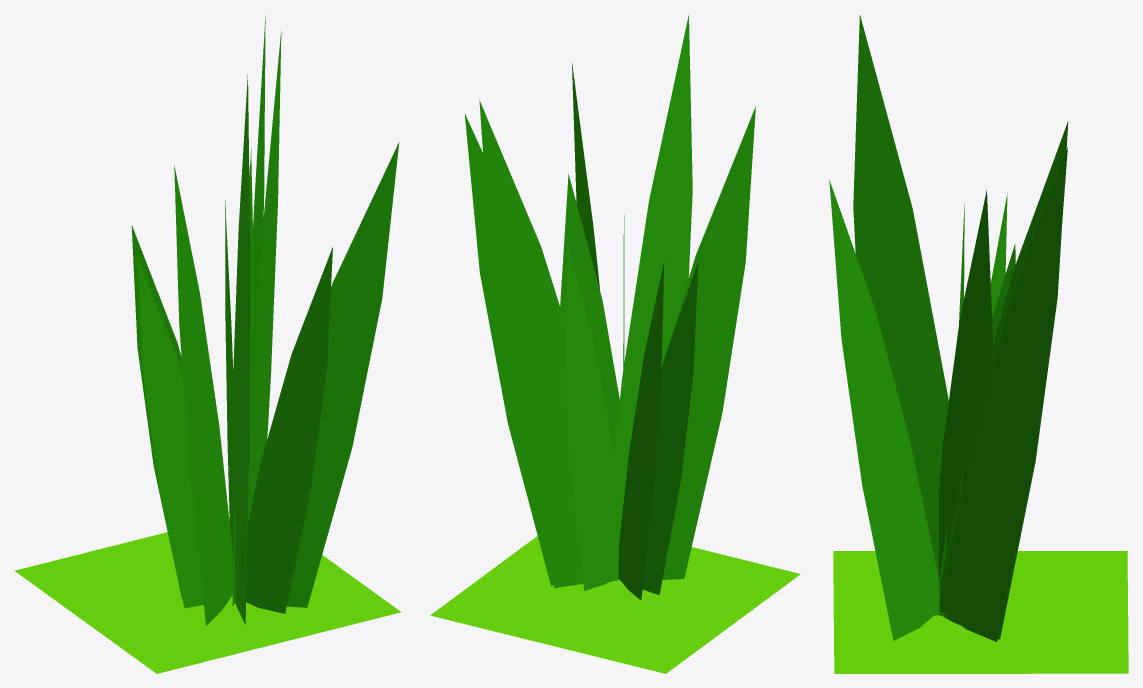
File: muda única de grama.fbx
The picture shows the model from 3 angles, left to right: view 1: azimuth 30°, elevation 25°; view 2: azimuth 150°, elevation 25°; view 3: azimuth 270°, elevation 25°; orthographic projection. The views are drawn at different scales.
Parts seen in each view (by area): view 1: Plane.003, Plane.003|Plane.002|Dupli|7, Plane.003|Plane.002|Dupli|5, Plane.003|Plane.002|Dupli|9, Plane.003|Plane.002|Dupli|4, Plane.003|Plane.002|Dupli|8, Plane.003|Plane.002|Dupli|6, Plane.003|Plane.002|Dupli|3, Plane.003|Plane.002|Dupli|10, Plane.003|Plane.002|Dupli|2, Plane.003|Plane.002|Dupli|1; view 2: Plane.003, Plane.003|Plane.002|Dupli|3, Plane.003|Plane.002|Dupli|9, Plane.003|Plane.002|Dupli|8, Plane.003|Plane.002|Dupli|2, Plane.003|Plane.002|Dupli|4, Plane.003|Plane.002|Dupli|10, Plane.003|Plane.002|Dupli|1, Plane.003|Plane.002|Dupli|6, Plane.003|Plane.002|Dupli|7; view 3: Plane.003, Plane.003|Plane.002|Dupli|6, Plane.003|Plane.002|Dupli|8, Plane.003|Plane.002|Dupli|7, Plane.003|Plane.002|Dupli|1, Plane.003|Plane.002|Dupli|3, Plane.003|Plane.002|Dupli|10, Plane.003|Plane.002|Dupli|2.
Boxes of the visible parts, <box> form: Plane.003: <box>14,516,401,673</box>; Plane.003|Plane.002|Dupli|7: <box>286,142,399,607</box>; Plane.003|Plane.002|Dupli|5: <box>246,247,332,613</box>; Plane.003|Plane.002|Dupli|9: <box>174,165,233,625</box>; Plane.003|Plane.002|Dupli|4: <box>137,256,203,608</box>; Plane.003|Plane.002|Dupli|8: <box>230,74,250,624</box>; Plane.003|Plane.002|Dupli|6: <box>247,31,281,524</box>; Plane.003|Plane.002|Dupli|3: <box>253,15,265,342</box>; Plane.003|Plane.002|Dupli|10: <box>131,225,182,597</box>; Plane.003|Plane.002|Dupli|2: <box>225,200,233,523</box>; Plane.003|Plane.002|Dupli|1: <box>232,148,254,605</box>; Plane.003: <box>430,536,800,673</box>; Plane.003|Plane.002|Dupli|3: <box>479,100,583,587</box>; Plane.003|Plane.002|Dupli|9: <box>619,106,755,579</box>; Plane.003|Plane.002|Dupli|8: <box>601,15,692,583</box>; Plane.003|Plane.002|Dupli|2: <box>565,242,613,590</box>; Plane.003|Plane.002|Dupli|4: <box>642,262,698,594</box>; Plane.003|Plane.002|Dupli|10: <box>618,261,664,600</box>; Plane.003|Plane.002|Dupli|1: <box>560,174,619,457</box>; Plane.003|Plane.002|Dupli|6: <box>464,113,553,585</box>; Plane.003|Plane.002|Dupli|7: <box>572,63,599,289</box>; Plane.003: <box>833,551,1128,673</box>; Plane.003|Plane.002|Dupli|6: <box>939,147,1067,641</box>; Plane.003|Plane.002|Dupli|8: <box>853,15,948,615</box>; Plane.003|Plane.002|Dupli|7: <box>829,180,939,640</box>; Plane.003|Plane.002|Dupli|1: <box>939,190,992,625</box>; Plane.003|Plane.002|Dupli|3: <box>940,121,1068,639</box>; Plane.003|Plane.002|Dupli|10: <box>990,194,1007,316</box>; Plane.003|Plane.002|Dupli|2: <box>937,244,1015,616</box>.
Size of the model in its own units: 16.08 by 35.89 by 16.29.
